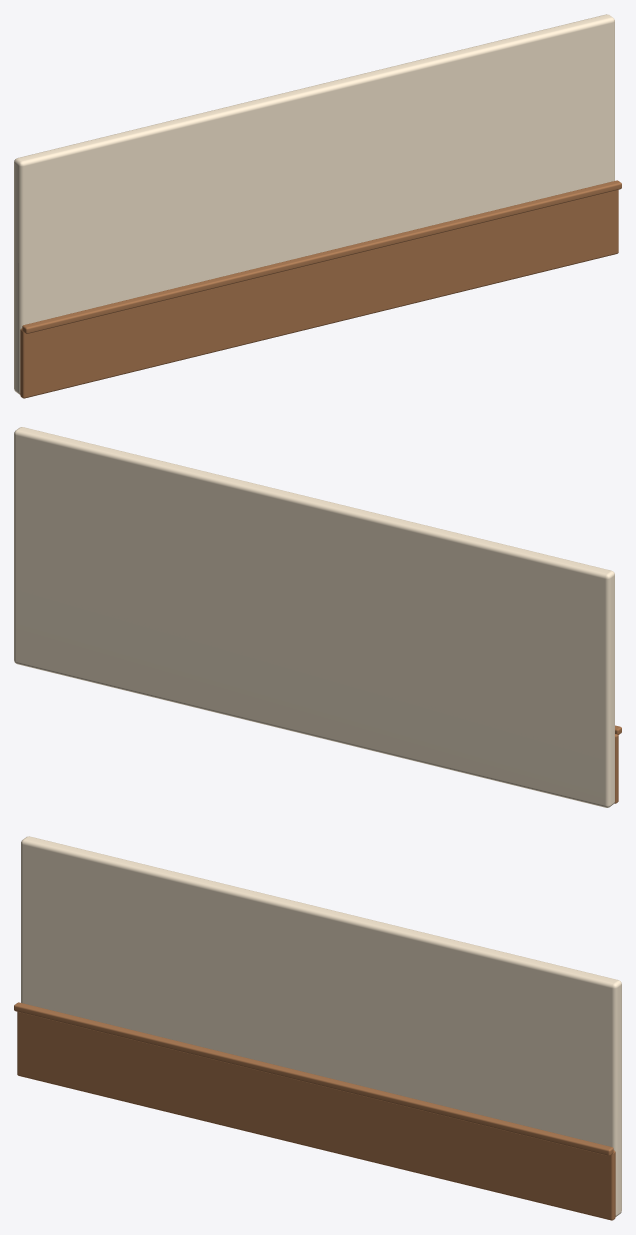
File: wall-left.glb
3 views of the same model, one above another, from view 1: azimuth 30°, elevation 25°; view 2: azimuth 150°, elevation 25°; view 3: azimuth 330°, elevation 25° (orthographic).
Parts seen in each view (by area): view 1: Left wall, Left lower band, Left rail; view 2: Left wall; view 3: Left wall, Left lower band, Left rail.
Boxes of the visible parts, x1,y1,x2,y2 form: Left wall: (14, 14, 614, 394); Left lower band: (20, 190, 618, 398); Left rail: (22, 180, 621, 333); Left wall: (14, 427, 614, 807); Left wall: (21, 836, 621, 1216); Left lower band: (17, 1012, 615, 1220); Left rail: (14, 1002, 613, 1155).
Size of the model in its own units: 9.6 by 3.6 by 0.385.
